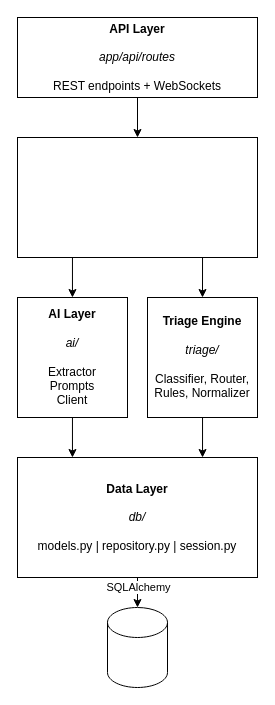
Image size: 275x705. Some labels were removed from this diagram. The shapes that lost their labels are listed below. From the top down, each one's centre as x and y in pixels, then its label:
At point (137, 197): "Orchestration Layer triage/pipeline.py Conversation state machine + decisions".
At point (137, 647): "SQLite".
